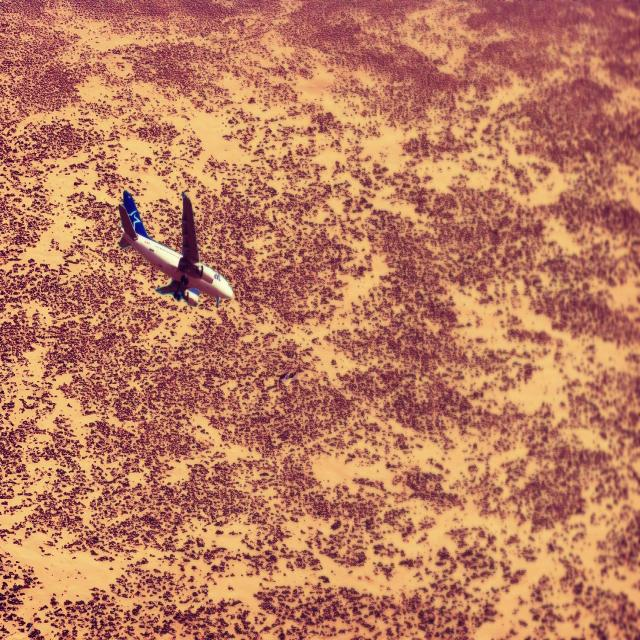airplane: (117, 189, 234, 308)
